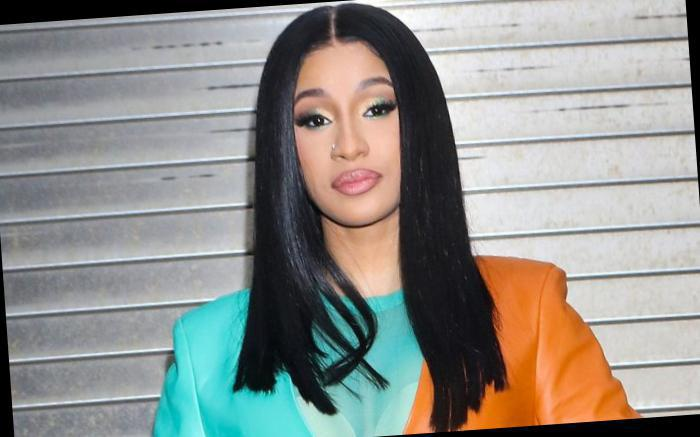Sober: (294, 53, 400, 215)
